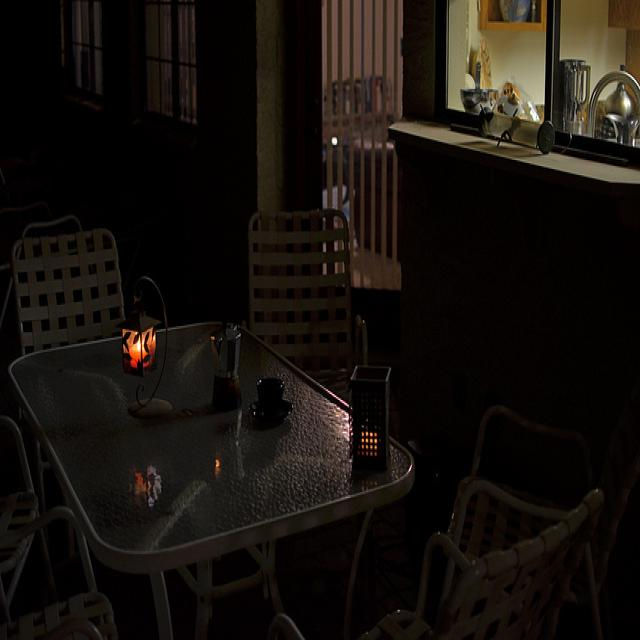Cup: (202, 319, 251, 410)
Table: (3, 341, 421, 599)
chair: (431, 451, 622, 640), (0, 405, 125, 640), (0, 181, 137, 379), (244, 177, 362, 387), (308, 91, 410, 307)
